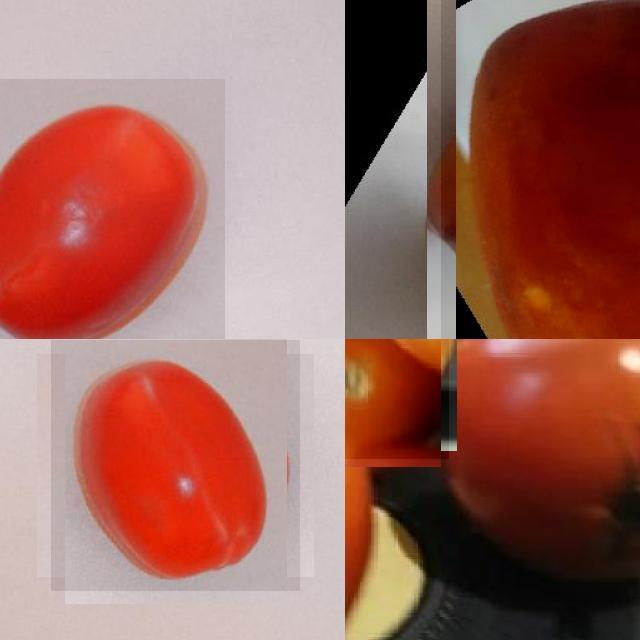Fresh Tomato: (51, 340, 300, 591), (0, 79, 224, 339), (437, 339, 640, 593)
Rotten Tomato: (441, 0, 640, 339)
